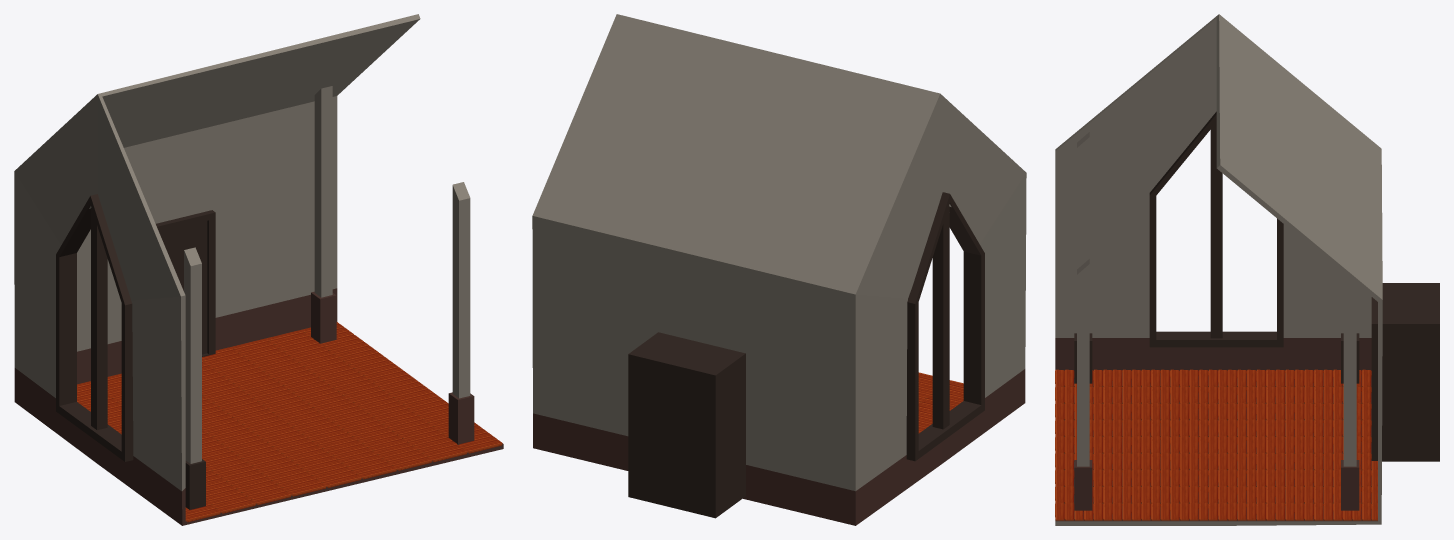
The model's file is LEVEL1_ROOMBASE.gltf.
3 views of the same model, side by side, from view 1: azimuth 30°, elevation 25°; view 2: azimuth 150°, elevation 25°; view 3: azimuth 270°, elevation 25° (orthographic). The views are drawn at different scales.
Visible parts, largest first — view 1: Room, Plank_LP, window frame, pillars.001, pillars.002, Cube.004; view 2: Room, Cube.004, window frame, Plank_LP; view 3: Room, Plank_LP, Cube.004, window frame, pillars.001, pillars.002.
Part boxes in pixels (<box>): Room: <box>14,14,503,525</box>; Plank_LP: <box>77,322,502,522</box>; window frame: <box>56,194,133,461</box>; pillars.001: <box>311,86,474,444</box>; pillars.002: <box>184,247,205,509</box>; Cube.004: <box>156,210,215,356</box>; Room: <box>532,14,1026,525</box>; Cube.004: <box>628,332,745,518</box>; window frame: <box>906,192,984,461</box>; Plank_LP: <box>850,372,963,522</box>; Room: <box>1055,14,1382,525</box>; Plank_LP: <box>1055,369,1377,520</box>; Cube.004: <box>1371,283,1439,461</box>; window frame: <box>1149,111,1283,347</box>; pillars.001: <box>1074,259,1359,511</box>; pillars.002: <box>1074,132,1359,383</box>.
Bounding box in the file's own units: 11.07 × 11.94 × 11.54.
4 materials, 1 textured.
